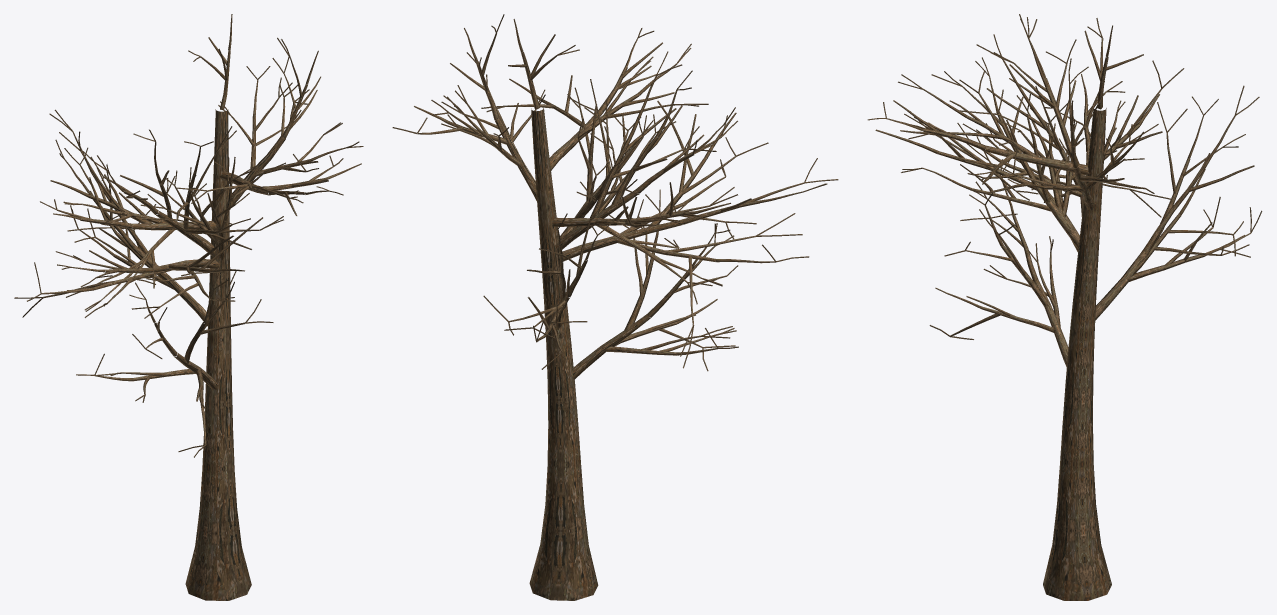
File: DeadTree_A.gltf
3 views of the same model, side by side, from view 1: azimuth 30°, elevation 25°; view 2: azimuth 150°, elevation 25°; view 3: azimuth 270°, elevation 25° (orthographic). The views are drawn at different scales.
Visible parts, largest first — view 1: DeadTree_A; view 2: DeadTree_A; view 3: DeadTree_A.
Boxes of the visible parts, bbox=[...] form: DeadTree_A: bbox=[14, 14, 363, 600]; DeadTree_A: bbox=[392, 14, 838, 600]; DeadTree_A: bbox=[867, 14, 1262, 600].
Bounding box in the file's own units: 6.93 × 10.69 × 6.62.
1 material, 1 textured.
